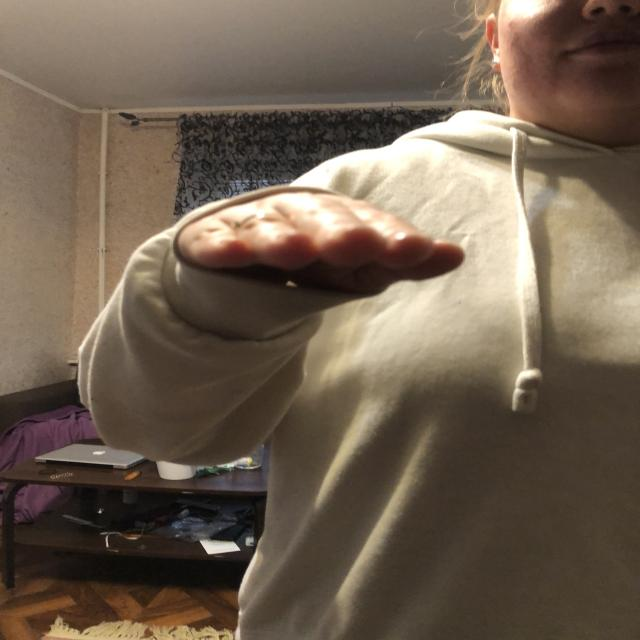paper: (181, 198, 468, 278)
